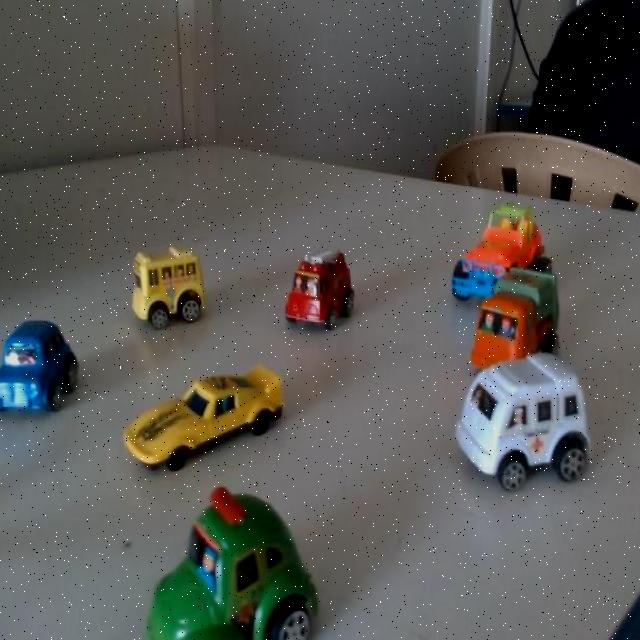car: (432, 329, 584, 516), (137, 493, 303, 640), (133, 355, 274, 484), (121, 240, 214, 344), (442, 197, 528, 307), (282, 237, 361, 351), (476, 260, 544, 379), (0, 319, 64, 421)
